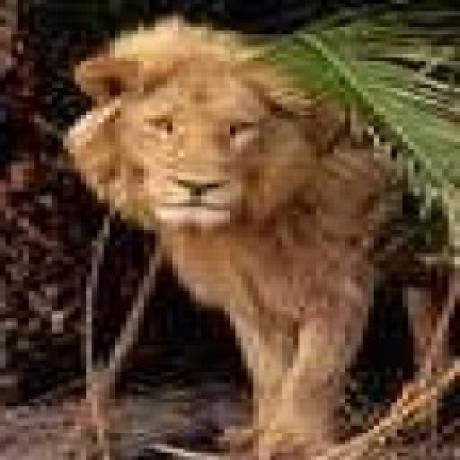Lion: (68, 16, 435, 458)
